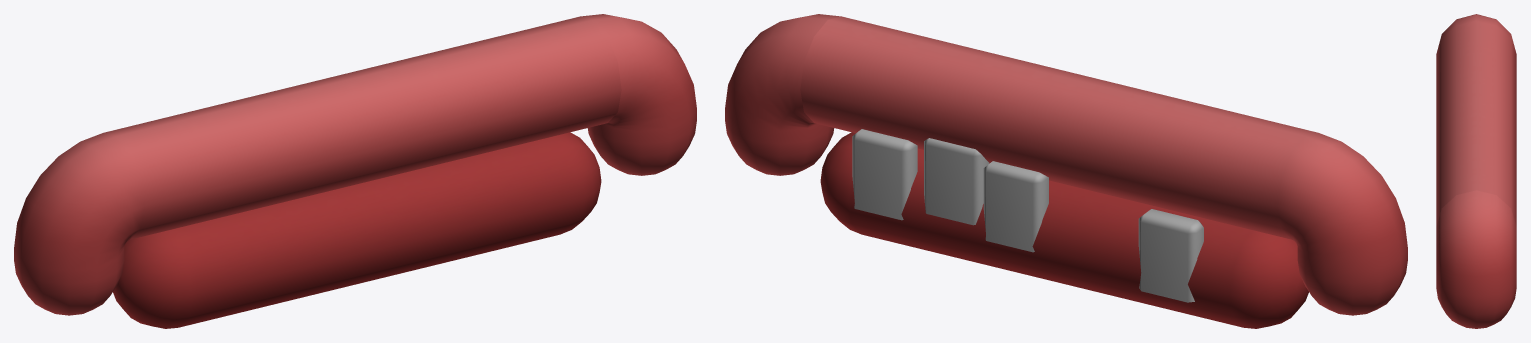
Rendered from Mouth3.fbx.
The picture shows the model from 3 angles, left to right: view 1: azimuth 30°, elevation 25°; view 2: azimuth 150°, elevation 25°; view 3: azimuth 270°, elevation 25°; orthographic projection. The views are drawn at different scales.
Parts seen in each view (by area): view 1: pSphere8, pSphere11; view 2: pSphere8, pSphere11, pCube4, pCube3, pCube1, pCube2; view 3: pSphere8.
Boxes of the visible parts, bbox=[...] form: pSphere8: bbox=[14, 14, 696, 315]; pSphere11: bbox=[113, 132, 601, 328]; pSphere8: bbox=[725, 14, 1407, 315]; pSphere11: bbox=[820, 132, 1308, 328]; pCube4: bbox=[1138, 209, 1203, 302]; pCube3: bbox=[852, 129, 917, 220]; pCube1: bbox=[983, 161, 1048, 252]; pCube2: bbox=[924, 138, 989, 225]; pSphere8: bbox=[1436, 14, 1516, 328].
Bounding box in the file's own units: 2.8 × 0.8 × 0.4.
Materials: 2 (1 with a texture image).
